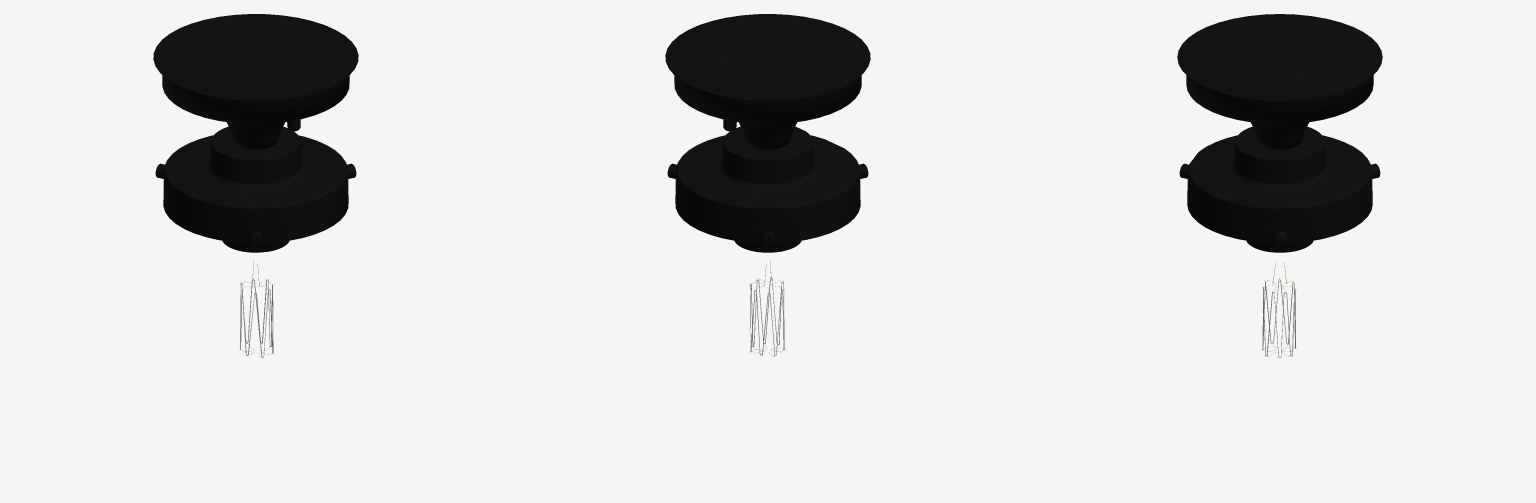
Rendered from lamp_B07B4Z9BS4.glb.
3 views of the same model, side by side, from view 1: azimuth 30°, elevation 25°; view 2: azimuth 150°, elevation 25°; view 3: azimuth 270°, elevation 25° (orthographic).
Parts seen in each view (by area): view 1: "$Mesh_B07B4Z9BS4Shape"; view 2: "$Mesh_B07B4Z9BS4Shape"; view 3: "$Mesh_B07B4Z9BS4Shape".
Part boxes in pixels (bbox=[...]): "$Mesh_B07B4Z9BS4Shape": bbox=[153, 14, 358, 358]; "$Mesh_B07B4Z9BS4Shape": bbox=[665, 14, 870, 356]; "$Mesh_B07B4Z9BS4Shape": bbox=[1177, 14, 1382, 357].
Size of the model in its own units: 0.2794 by 0.2694 by 0.2794.
Materials: 1 (1 with a texture image).
